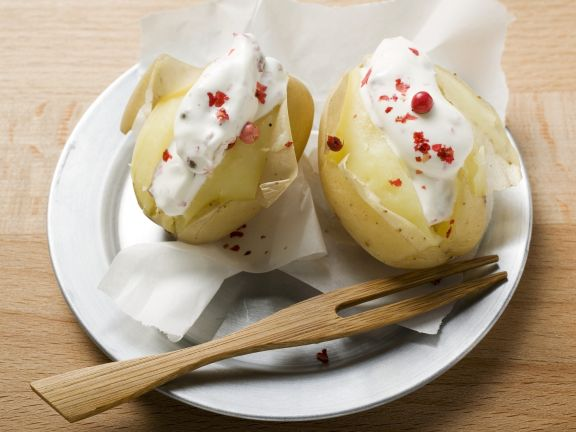boiled potatoes: (318, 48, 496, 260), (133, 56, 311, 241)
